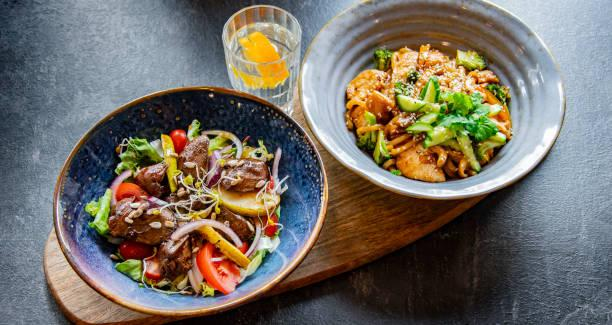Braised Crucian Carp: (52, 86, 320, 317), (302, 1, 560, 202)
